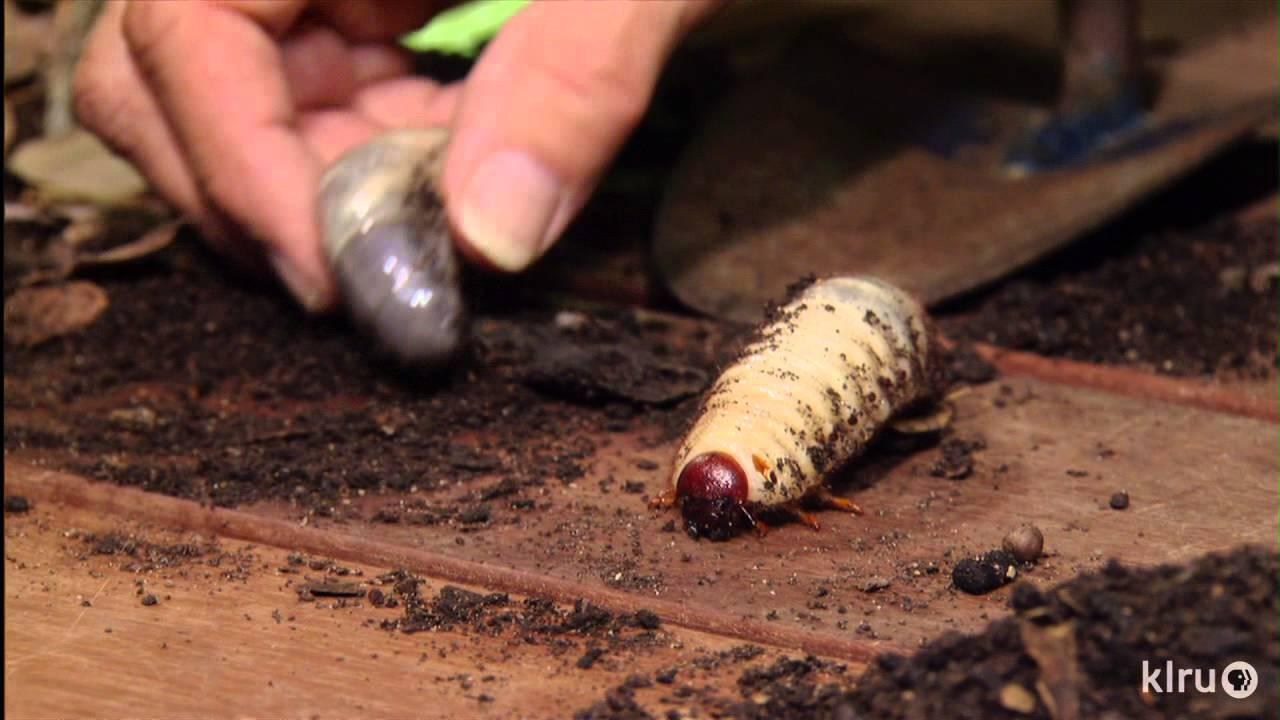grub: (670, 218, 978, 582)
